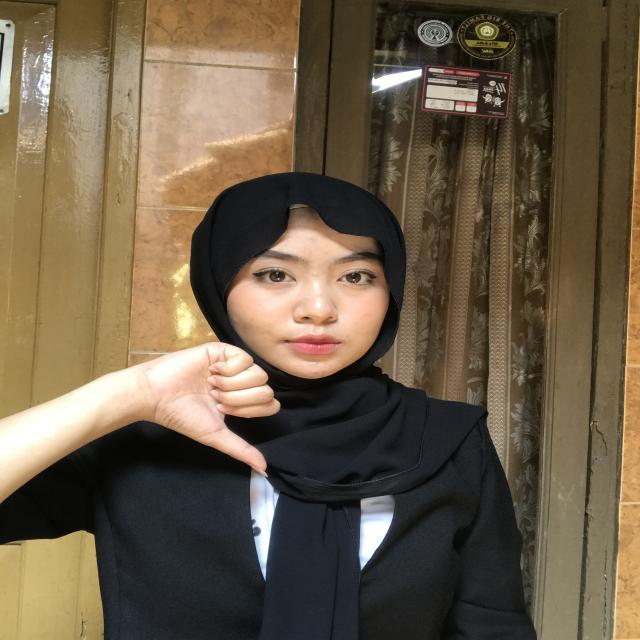sedih: (91, 330, 315, 493)
